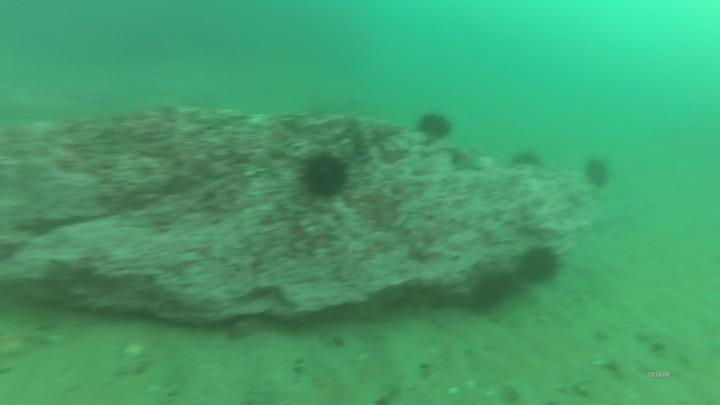echinus: (294, 149, 362, 208), (512, 238, 572, 292), (411, 110, 459, 145), (508, 144, 549, 175), (585, 153, 618, 190)
